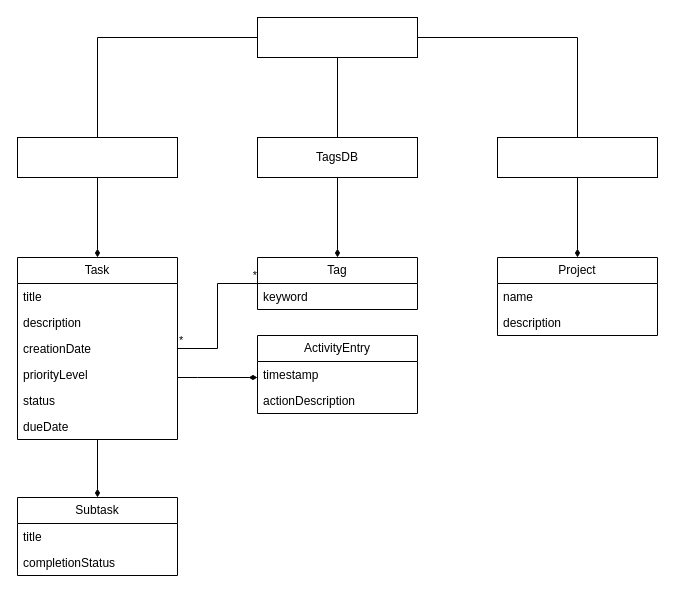
Some shapes in this 675 by 596 pixel diagram are drawn without their labels. The centre of each missing label's shape, as x and y in pixels:
Console: the point at 337,37
ProjectsDB: the point at 577,157
TasksDB: the point at 97,157
